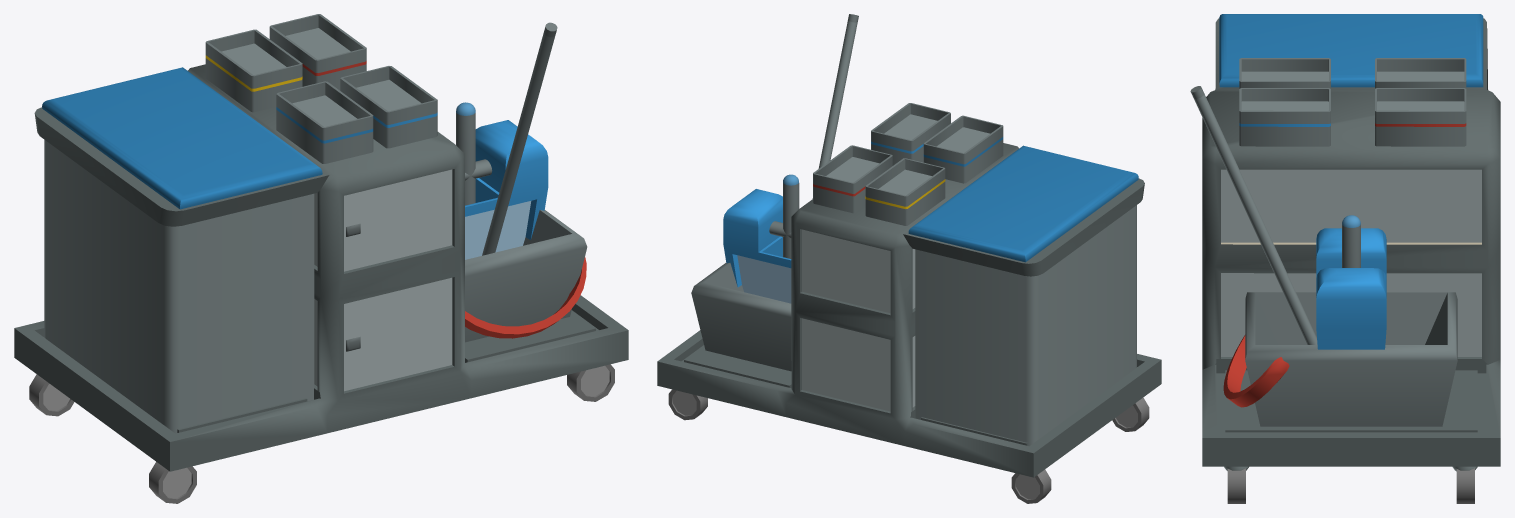
File: Cleaning-Tool.fbx
The picture shows the model from 3 angles, left to right: view 1: azimuth 30°, elevation 25°; view 2: azimuth 150°, elevation 25°; view 3: azimuth 270°, elevation 25°; orthographic projection. The views are drawn at different scales.
Parts seen in each view (by area): view 1: Cleaning-Tool, Bucket, Stick, Wheel-1, Wheel-2, Wheel-3; view 2: Cleaning-Tool, Bucket, Stick, Wheel-3, Wheel-4, Wheel-1; view 3: Cleaning-Tool, Bucket, Stick, Wheel-4, Wheel-2.
Part boxes in pixels (x1,y1,x2,y2): Cleaning-Tool: (14, 14, 628, 471); Bucket: (456, 102, 587, 342); Stick: (482, 22, 557, 255); Wheel-1: (149, 462, 196, 503); Wheel-2: (567, 364, 614, 401); Wheel-3: (29, 374, 74, 416); Cleaning-Tool: (657, 103, 1161, 477); Bucket: (691, 174, 799, 371); Stick: (812, 14, 858, 198); Wheel-3: (1011, 469, 1051, 503); Wheel-4: (668, 389, 707, 420); Wheel-1: (1112, 397, 1149, 431); Cleaning-Tool: (1202, 14, 1500, 471); Bucket: (1223, 215, 1457, 426); Stick: (1190, 86, 1317, 344); Wheel-4: (1456, 468, 1474, 503); Wheel-2: (1227, 468, 1245, 503).
Bounding box in the file's own units: 1.62 × 1.37 × 0.9927.
